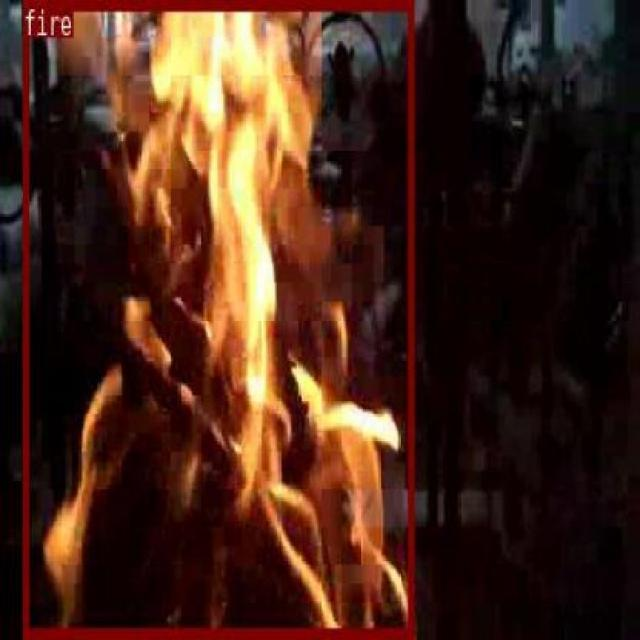Fire: (23, 0, 412, 635)
